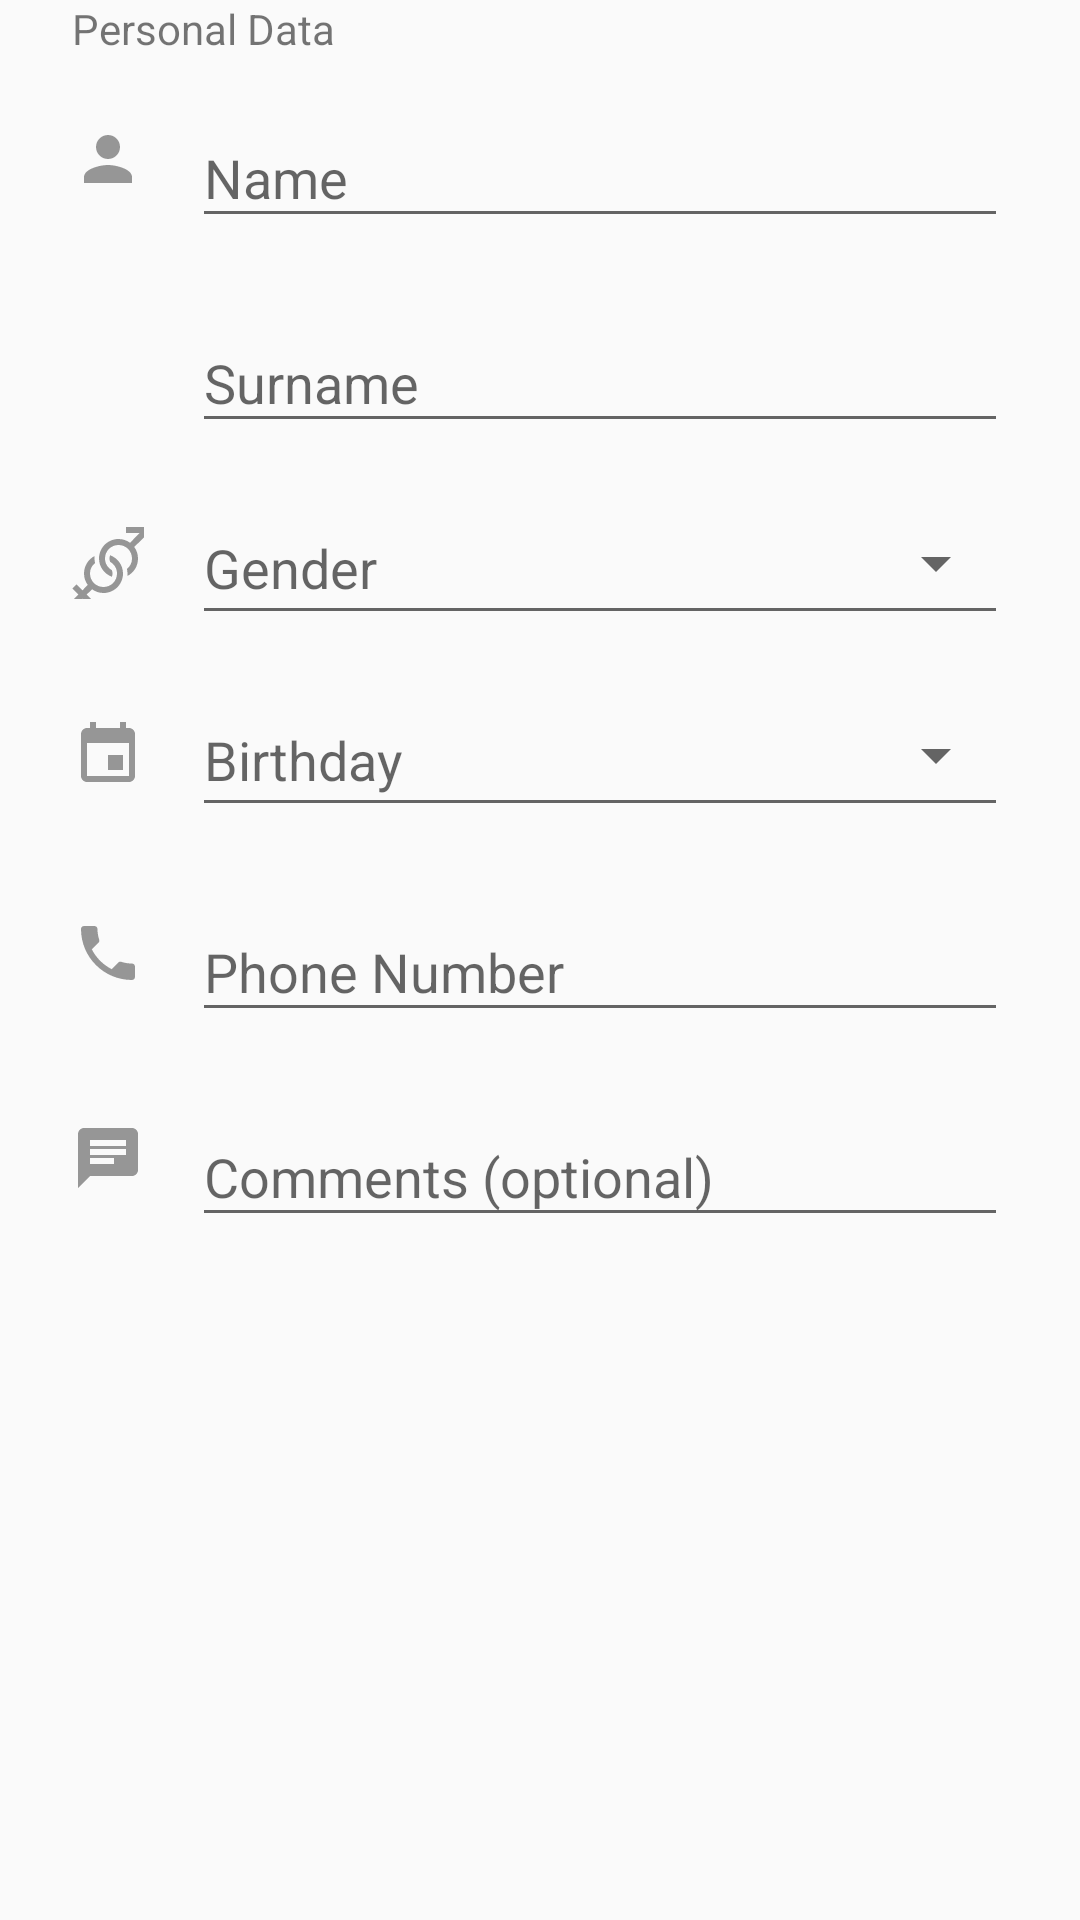

Locate icon controls on the screen. Image size 1080px×1920px, boxes as bbox=[x1, y1, x2, y2].
chat: bbox=[78, 1128, 138, 1188]
event: bbox=[81, 722, 135, 782]
